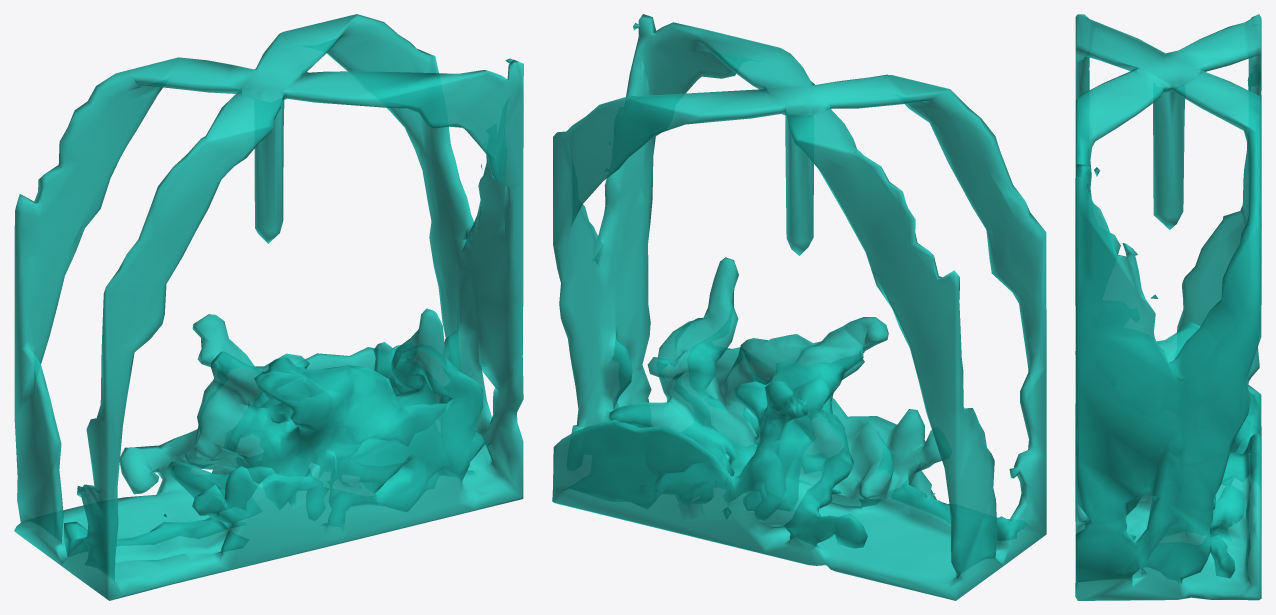
3 views of the same model, side by side, from view 1: azimuth 30°, elevation 25°; view 2: azimuth 150°, elevation 25°; view 3: azimuth 270°, elevation 25° (orthographic). The views are drawn at different scales.
Parts seen in each view (by area): view 1: Liquid_Domain; view 2: Liquid_Domain; view 3: Liquid_Domain.
Part boxes in pixels (x1=…): Liquid_Domain: x1=14, y1=14, x2=523, y2=600; Liquid_Domain: x1=552, y1=14, x2=1046, y2=600; Liquid_Domain: x1=1075, y1=14, x2=1261, y2=600.
Bounding box in the file's own units: 884 × 884 × 345.
